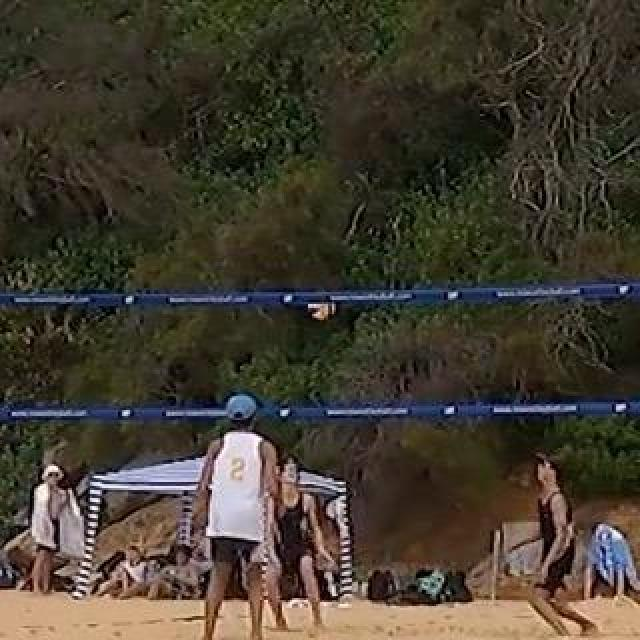volleyball: (307, 292, 337, 318)
